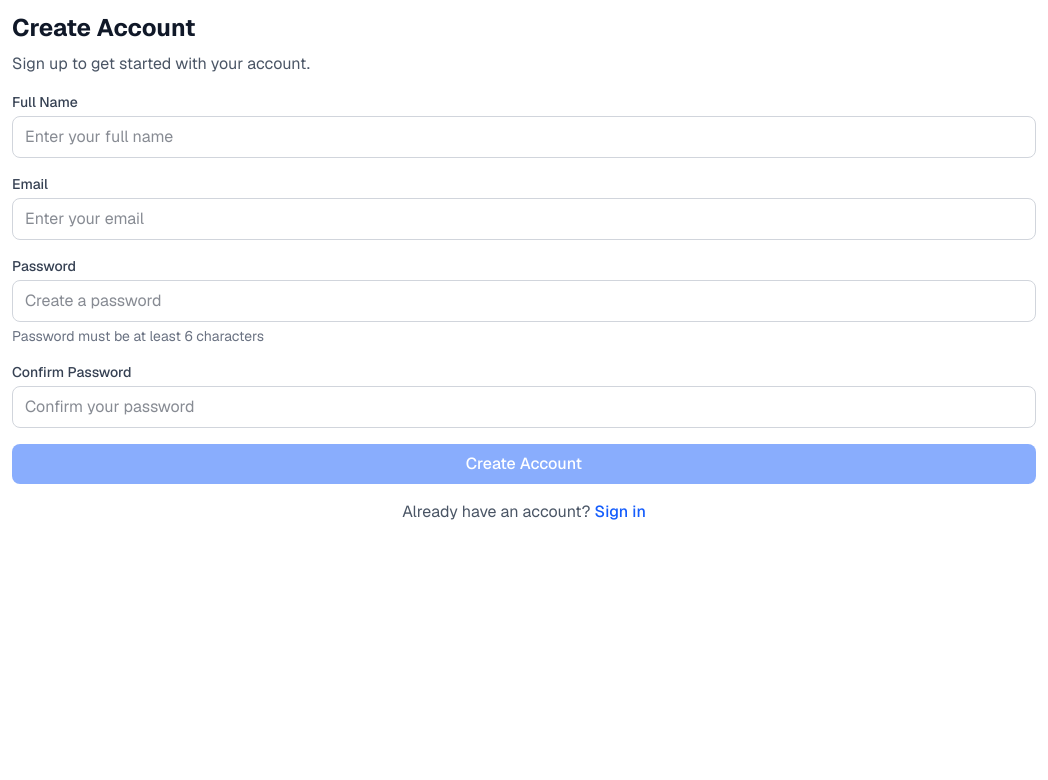
Test: RegisterForm Component › removes password mismatch error when passwords match
The image size is (1048, 780).
// First, create a mismatch
Type "password123" into the password field labelled "Password" at x=524, y=301, box [12,280,1036,322]
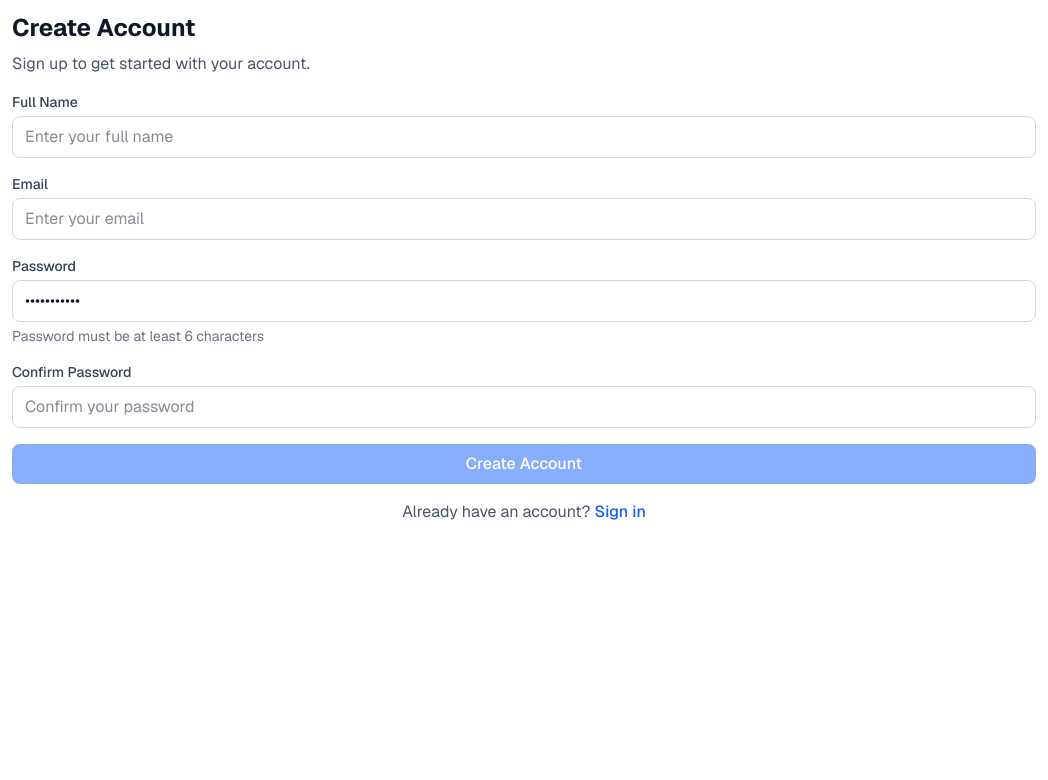
Type "different123" into the password field labelled "Confirm Password" at x=524, y=407, box [12,386,1036,428]
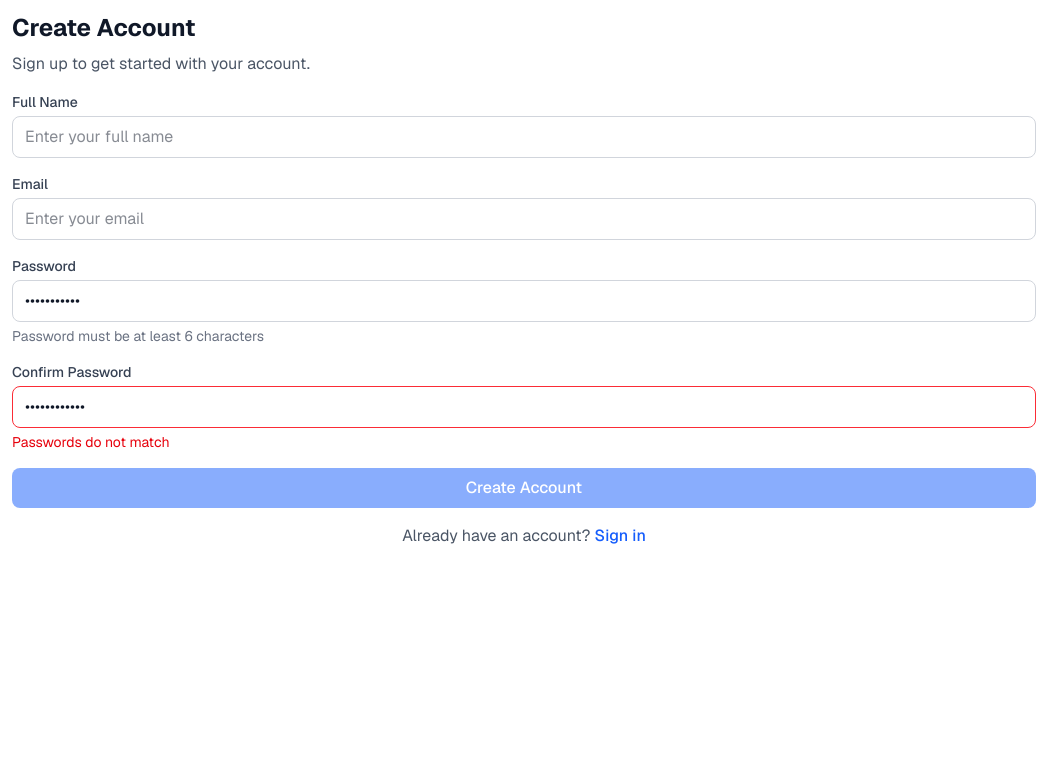
Expected: the text "Passwords do not match" is shown, [12,433,170,451]
// Then fix the mismatch
Type "password123" into the password field labelled "Confirm Password" at x=524, y=407, box [12,386,1036,428]
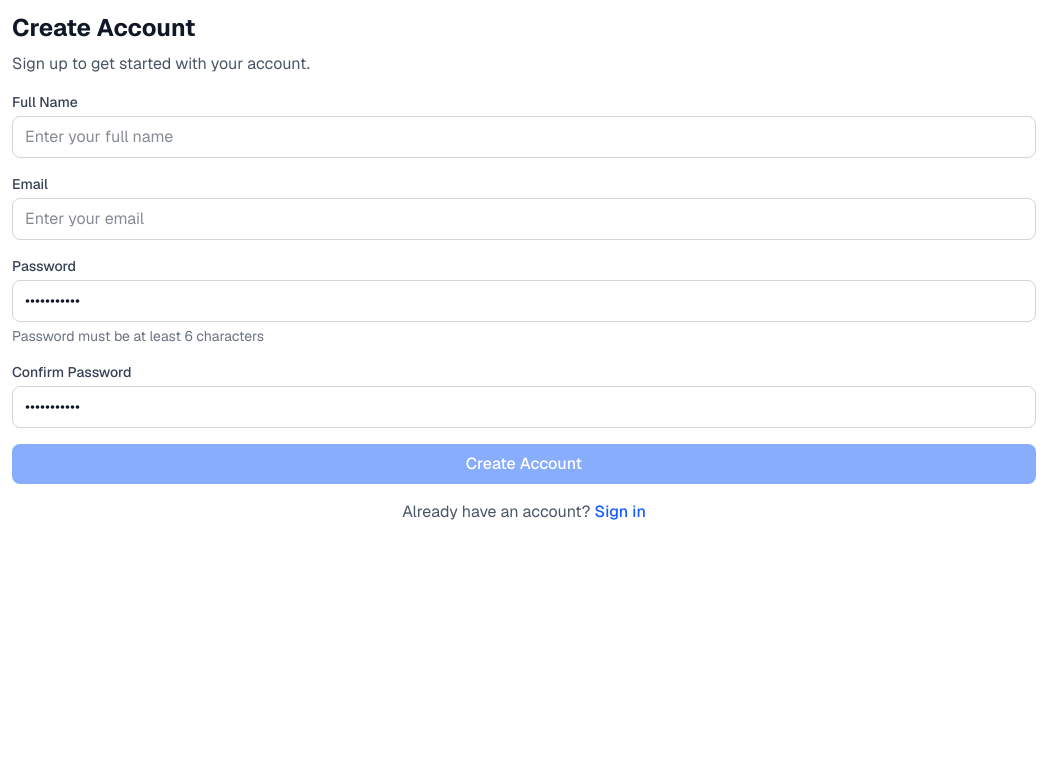
Expected: the text "Passwords do not match" is gone
